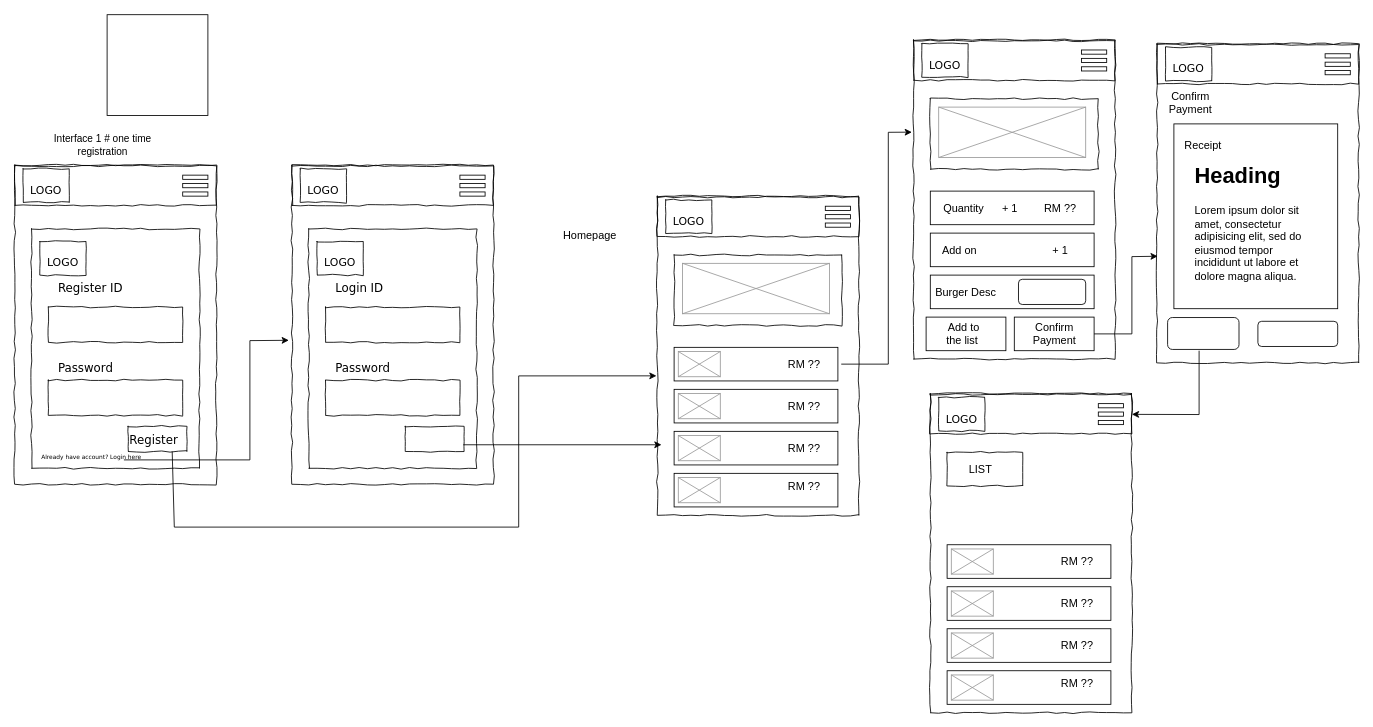
Some shapes in this 1373 by 727 pixel diagram are drawn without their labels. The centre of each missing label's shape, as x and y in pixels:
"Customer app" belongs at point 157,65.
"Login" belongs at point 434,438.
"Purchase" belongs at point 1297,333.
"View List" belongs at point 1203,333.
